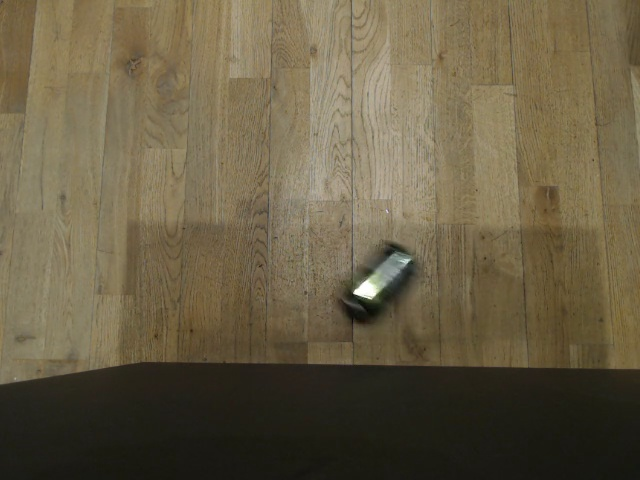beer: (334, 242, 420, 329)
